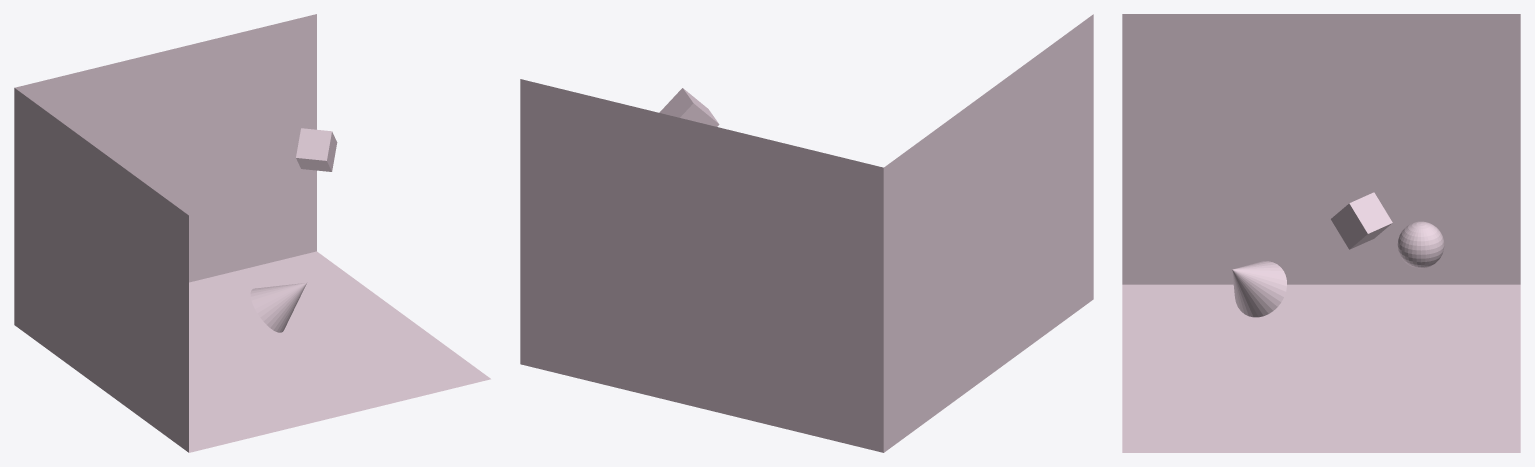
3 views of the same model, side by side, from view 1: azimuth 30°, elevation 25°; view 2: azimuth 150°, elevation 25°; view 3: azimuth 270°, elevation 25° (orthographic). The views are drawn at different scales.
Visible parts, largest first — view 1: testobj.001; view 2: testobj.001; view 3: testobj.001.
Boxes of the visible parts, box(x1,y1,x2,y2) form: testobj.001: box(14, 14, 490, 452); testobj.001: box(520, 14, 1093, 452); testobj.001: box(1122, 14, 1520, 452).
Size of the model in its own units: 2 by 1.5 by 2.
